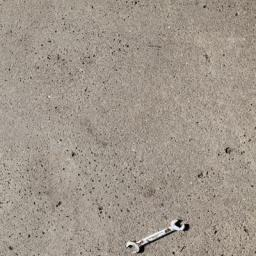FOD: (123, 215, 190, 256)
